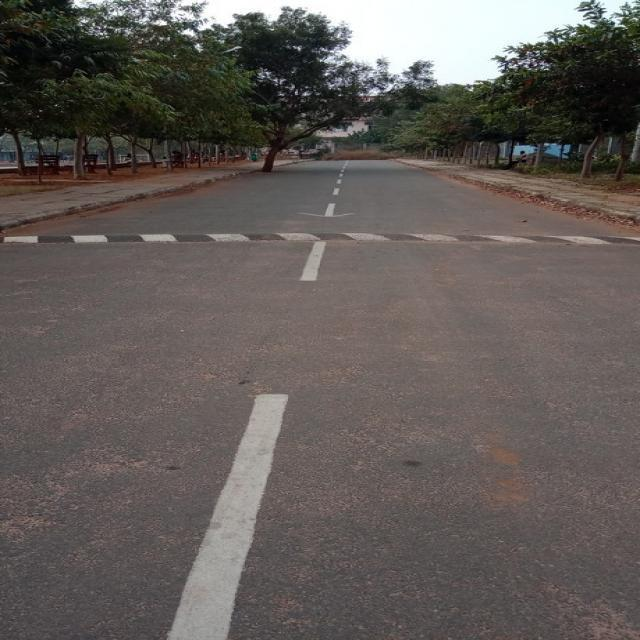speedbreaker: (34, 226, 632, 250)
